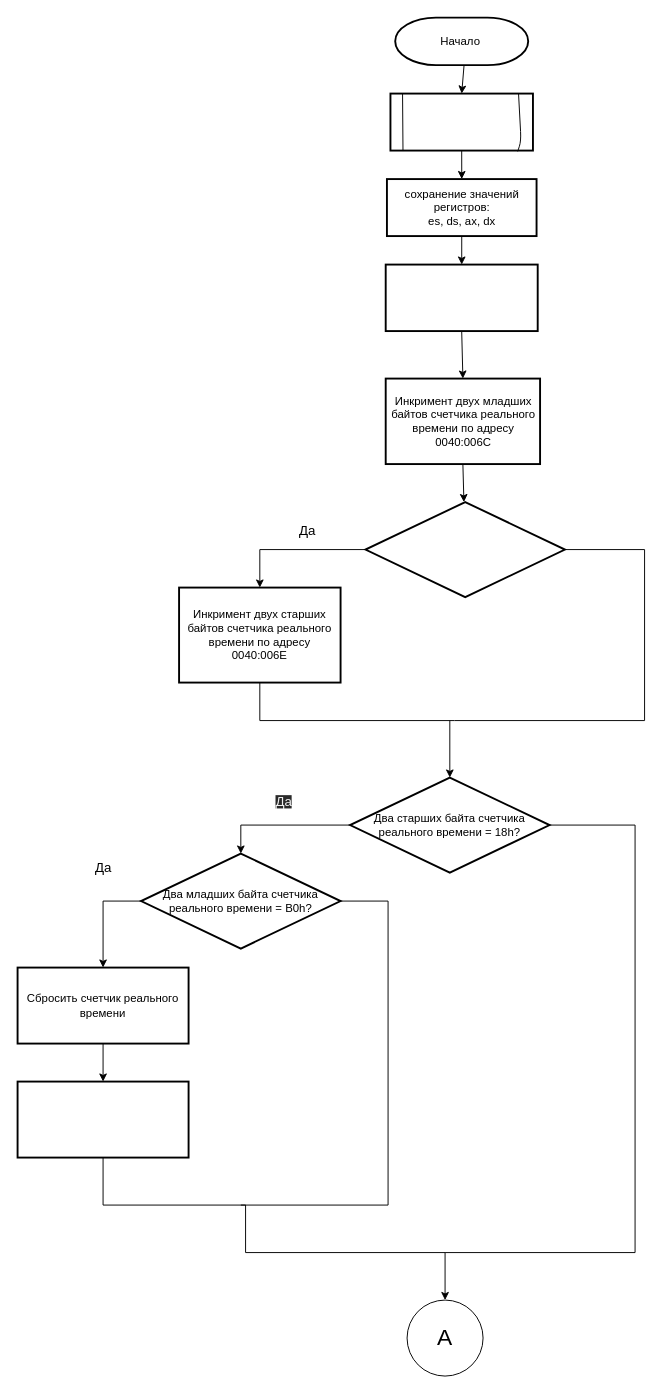
This 662x1393 diagram has some shape labels left out. The shapes that lost their labels are listed below. From the top down, each one's centre as x and y in pixels, then its label:
At (461,121): "Вызов подпрограммы sub_1".
At (461,297): "Помещение в ds адрес BIOS Помещение в es адрес таблицы векторов прерывания".
At (464,549): "Два младших байта счетчика реального времени = 0?".
At (102,1119): "Установить флаг смены суток в единицу".
